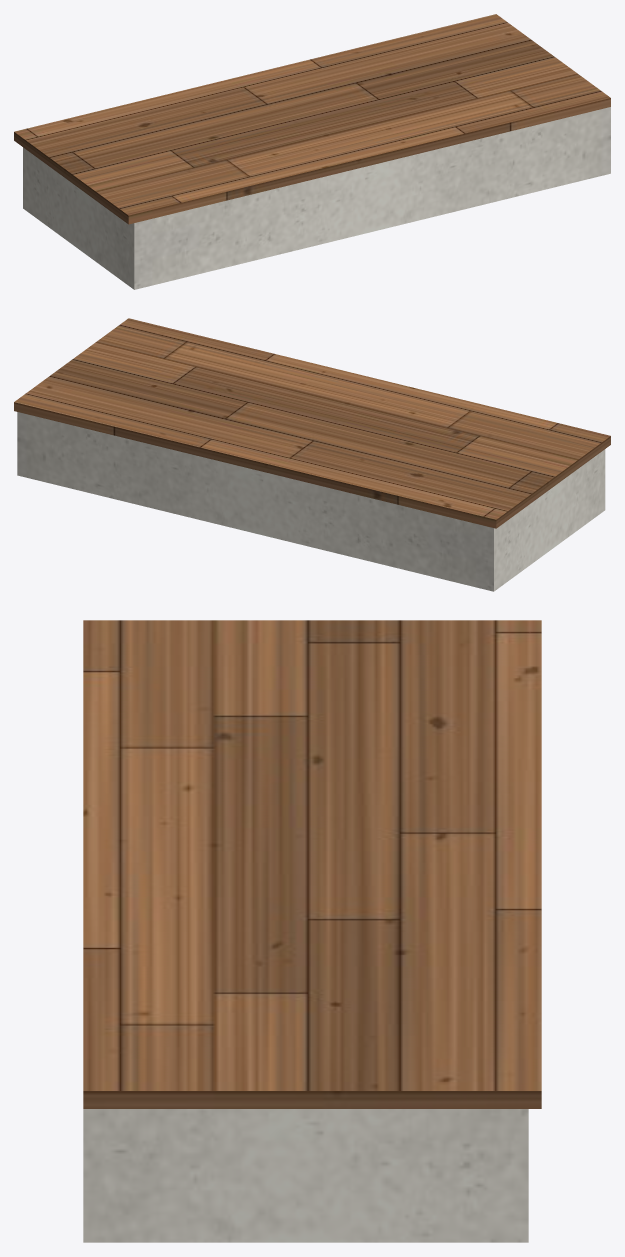
The model's file is floor_floor_u_half_e0101.glb.
3 renders of one model, top to bottom at view 1: azimuth 30°, elevation 25°; view 2: azimuth 150°, elevation 25°; view 3: azimuth 270°, elevation 25°, orthographic. The views are drawn at different scales.
Parts seen in each view (by area): view 1: floor_floor_u_half_e0101_floor, floor_floor_u_half_e0101_plaster; view 2: floor_floor_u_half_e0101_floor, floor_floor_u_half_e0101_plaster; view 3: floor_floor_u_half_e0101_floor, floor_floor_u_half_e0101_plaster.
Part boxes in pixels (bbox=[...]): floor_floor_u_half_e0101_floor: bbox=[14, 14, 610, 224]; floor_floor_u_half_e0101_plaster: bbox=[23, 107, 610, 289]; floor_floor_u_half_e0101_floor: bbox=[14, 318, 610, 528]; floor_floor_u_half_e0101_plaster: bbox=[17, 412, 605, 591]; floor_floor_u_half_e0101_floor: bbox=[83, 620, 541, 1108]; floor_floor_u_half_e0101_plaster: bbox=[83, 1109, 528, 1242].
Bounding box in the file's own units: 1.7 × 0.255 × 0.7.
Materials: 2 (2 with a texture image).
